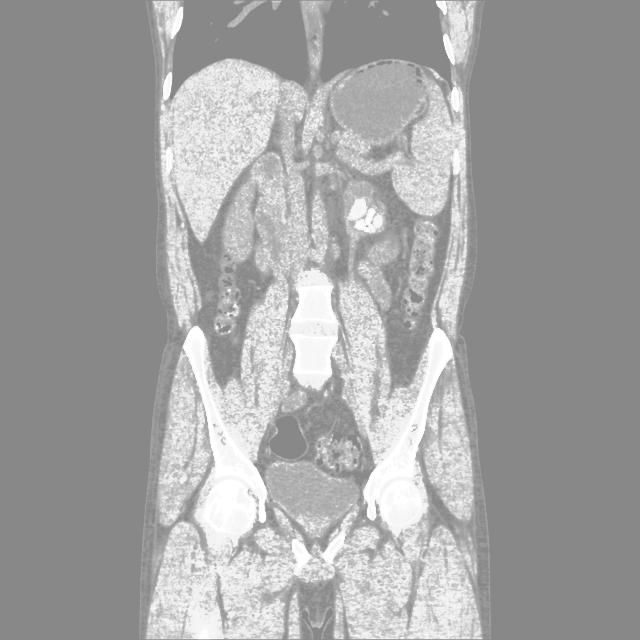STONE: (90, 173, 515, 480)
